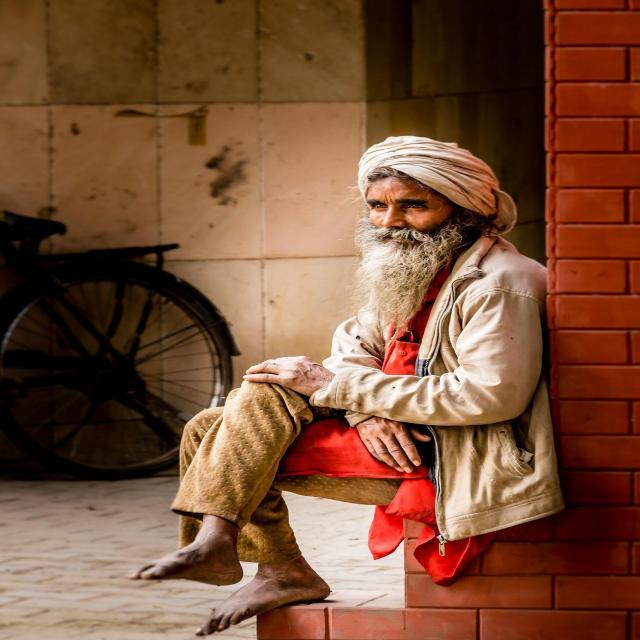person: (143, 89, 575, 636)
